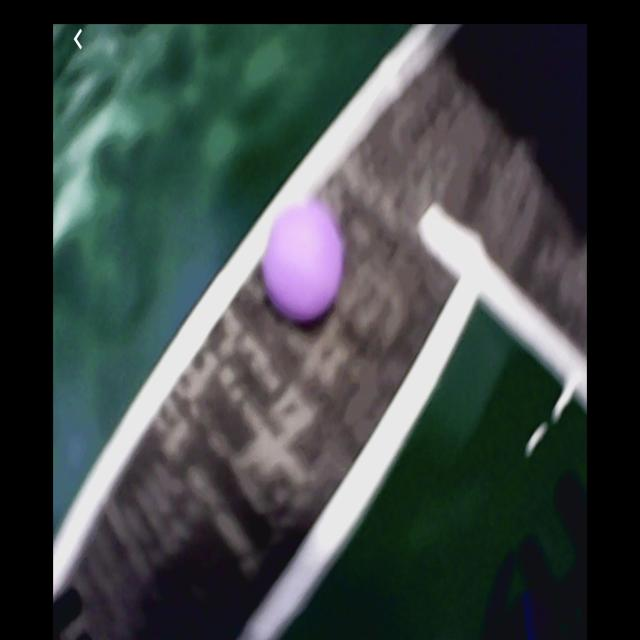ball: (265, 201, 343, 320)
